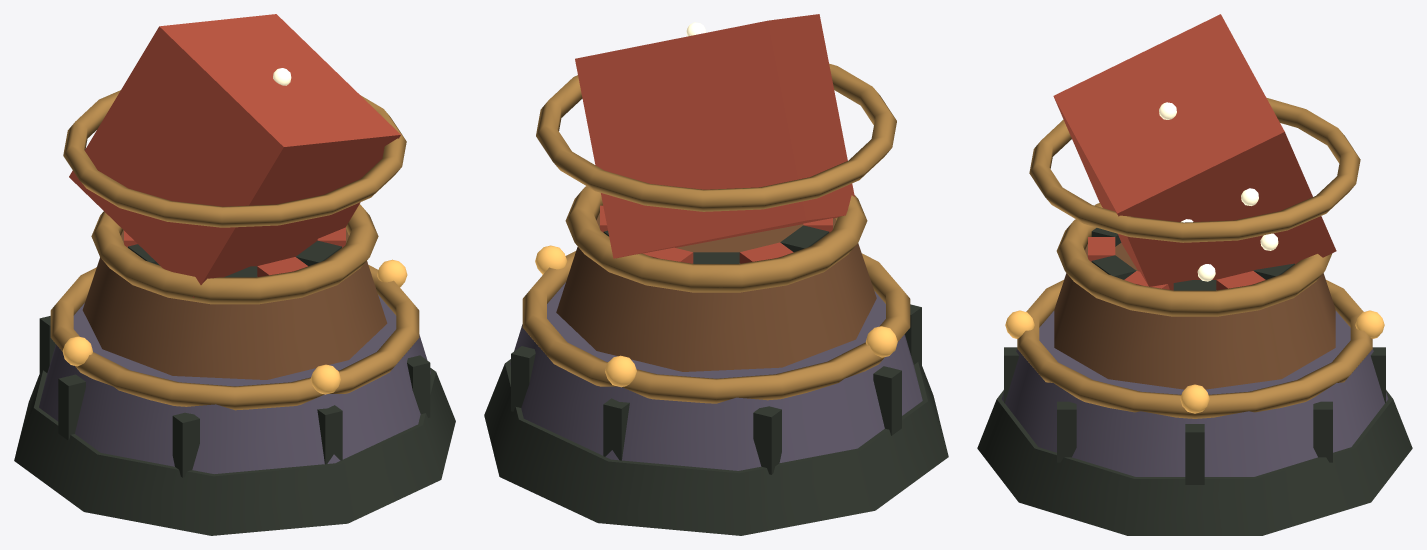
The model's file is tower_gamble_gambleFate.glb.
3 views of the same model, side by side, from view 1: azimuth 30°, elevation 25°; view 2: azimuth 150°, elevation 25°; view 3: azimuth 270°, elevation 25° (orthographic). The views are drawn at different scales.
Visible parts, largest first — view 1: die_29, foot_0, stone_1, table_15, rim_2, fate_ring_35, roulette_rim_16, mortar_6, mortar_7, mortar_5, mortar_4, mortar_8 (+5 smaller); view 2: die_29, foot_0, stone_1, table_15, rim_2, fate_ring_35, roulette_rim_16, mortar_8, mortar_7, mortar_9, mortar_10, rivet_14 (+6 smaller); view 3: die_29, foot_0, stone_1, table_15, fate_ring_35, rim_2, roulette_rim_16, mortar_3, mortar_4, mortar_10, rivet_11, pocket_22 (+6 smaller).
Boxes of the visible parts, left/top/right/bottom form: die_29: left=69, top=14, right=400, bottom=297; foot_0: left=14, top=368, right=455, bottom=535; stone_1: left=39, top=295, right=430, bottom=473; table_15: left=82, top=229, right=387, bottom=379; rim_2: left=50, top=265, right=419, bottom=410; fate_ring_35: left=63, top=90, right=406, bottom=227; roulette_rim_16: left=91, top=204, right=378, bottom=304; mortar_6: left=172, top=412, right=199, bottom=477; mortar_7: left=58, top=374, right=85, bottom=440; mortar_5: left=317, top=405, right=342, bottom=464; mortar_4: left=407, top=355, right=430, bottom=417; mortar_8: left=39, top=316, right=55, bottom=374; die_29: left=575, top=14, right=854, bottom=258; foot_0: left=484, top=359, right=948, bottom=535; stone_1: left=510, top=282, right=922, bottom=470; table_15: left=556, top=213, right=876, bottom=371; rim_2: left=522, top=251, right=910, bottom=403; fate_ring_35: left=536, top=63, right=896, bottom=211; roulette_rim_16: left=565, top=186, right=867, bottom=292; mortar_8: left=753, top=406, right=781, bottom=474; mortar_7: left=873, top=366, right=901, bottom=435; mortar_9: left=603, top=398, right=629, bottom=460; mortar_10: left=511, top=346, right=535, bottom=411; rivet_14: left=605, top=355, right=636, bottom=387; die_29: left=1053, top=14, right=1336, bottom=290; foot_0: left=977, top=390, right=1412, bottom=535; stone_1: left=1001, top=311, right=1388, bottom=476; table_15: left=1054, top=243, right=1335, bottom=389; fate_ring_35: left=1029, top=97, right=1360, bottom=242; rim_2: left=1017, top=280, right=1372, bottom=418; roulette_rim_16: left=1056, top=203, right=1332, bottom=316; mortar_3: left=1185, top=424, right=1204, bottom=484; mortar_4: left=1057, top=401, right=1076, bottom=462; mortar_10: left=1313, top=401, right=1332, bottom=462; rivet_11: left=1180, top=384, right=1209, bottom=413; pocket_22: left=1091, top=255, right=1136, bottom=279.
Bounding box in the file's own units: 0.5326 × 0.5747 × 0.56.
